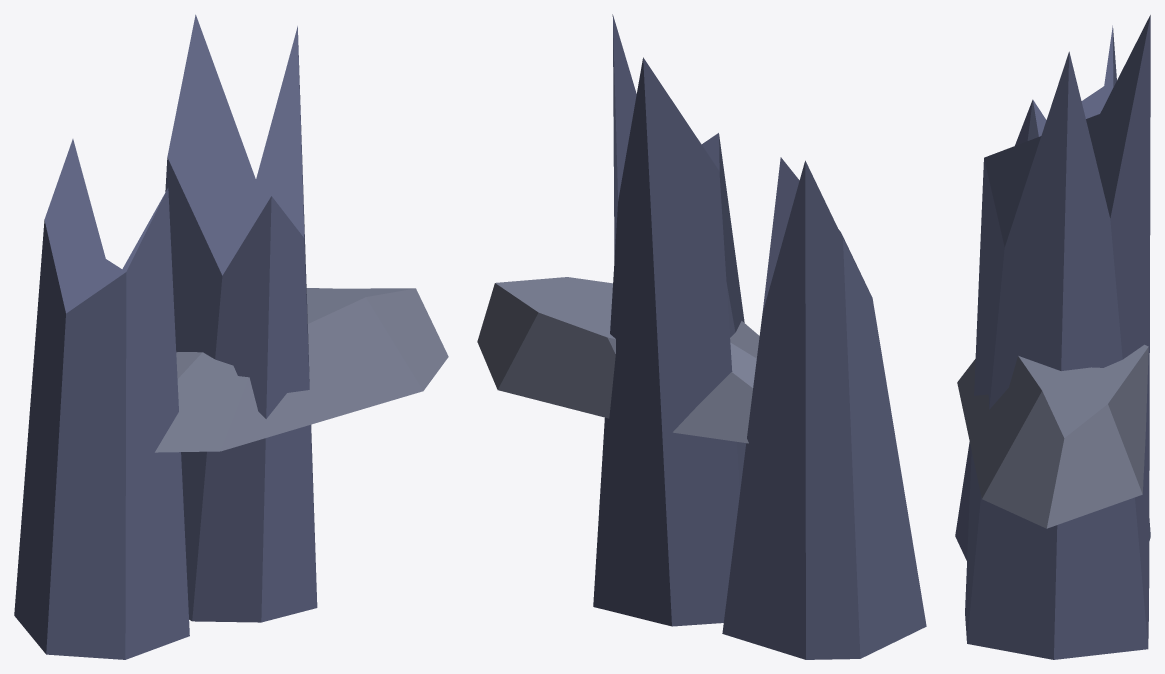
Rendered from map-boundaries-v5__highland_07.glb.
3 views of the same model, side by side, from view 1: azimuth 30°, elevation 25°; view 2: azimuth 150°, elevation 25°; view 3: azimuth 270°, elevation 25° (orthographic). The views are drawn at different scales.
Parts seen in each view (by area): view 1: highland_07; view 2: highland_07; view 3: highland_07.
Part boxes in pixels (x1,y1,x2,y2): highland_07: (14, 14, 448, 659); highland_07: (477, 14, 926, 659); highland_07: (955, 15, 1150, 659).
Size of the model in its own units: 1.54 by 1.92 by 0.5586.
